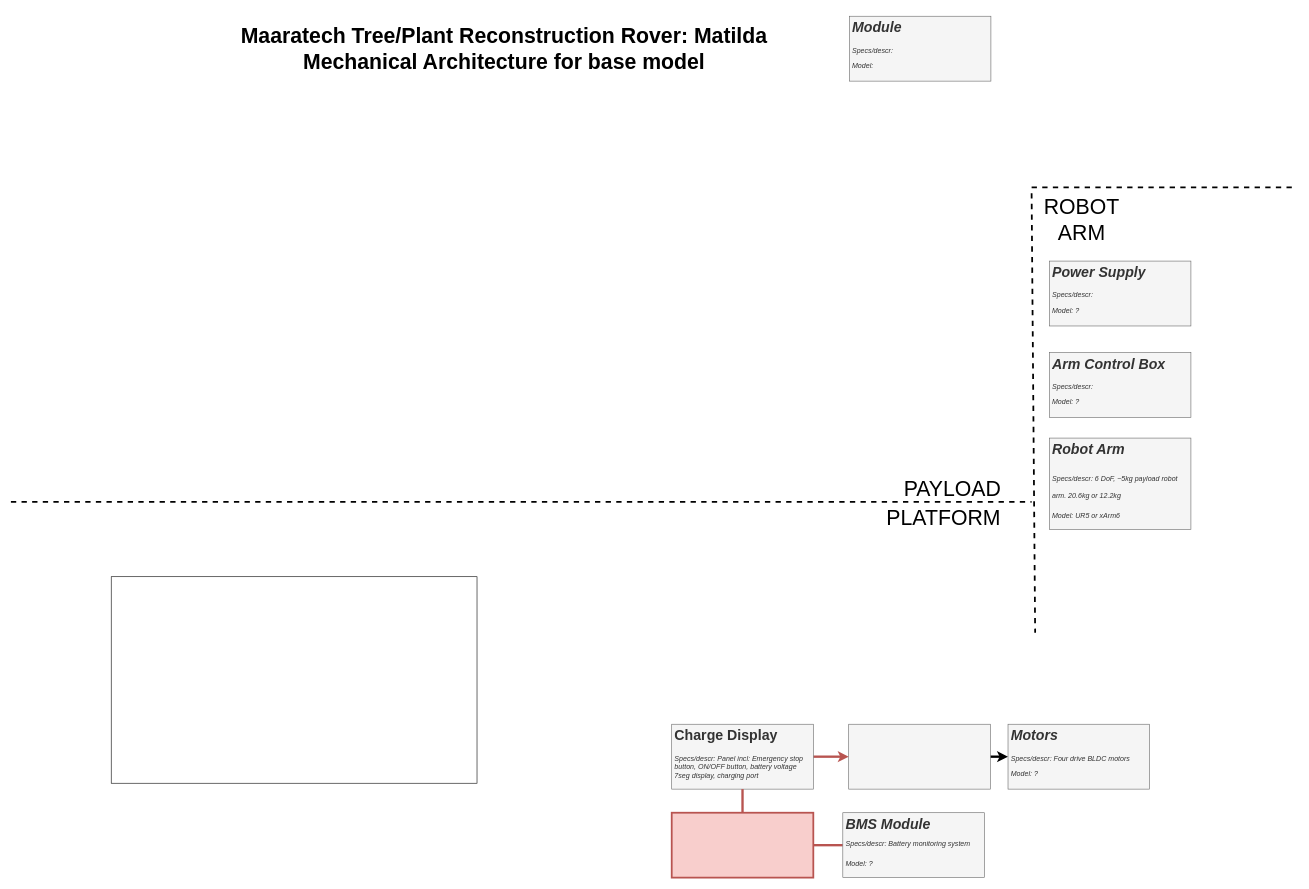
This 1309x889 diagram has some shape labels left out. Here are the shapes that lost their labels. From the top down, the centre of each, then its label:
At point (919, 756): "Motor controller Specs/descr: 4 BLDC motor controllers. Model: ?".
At point (742, 845): "48V Battery Specs/descr: Lithium deep cycle Model: ?".
